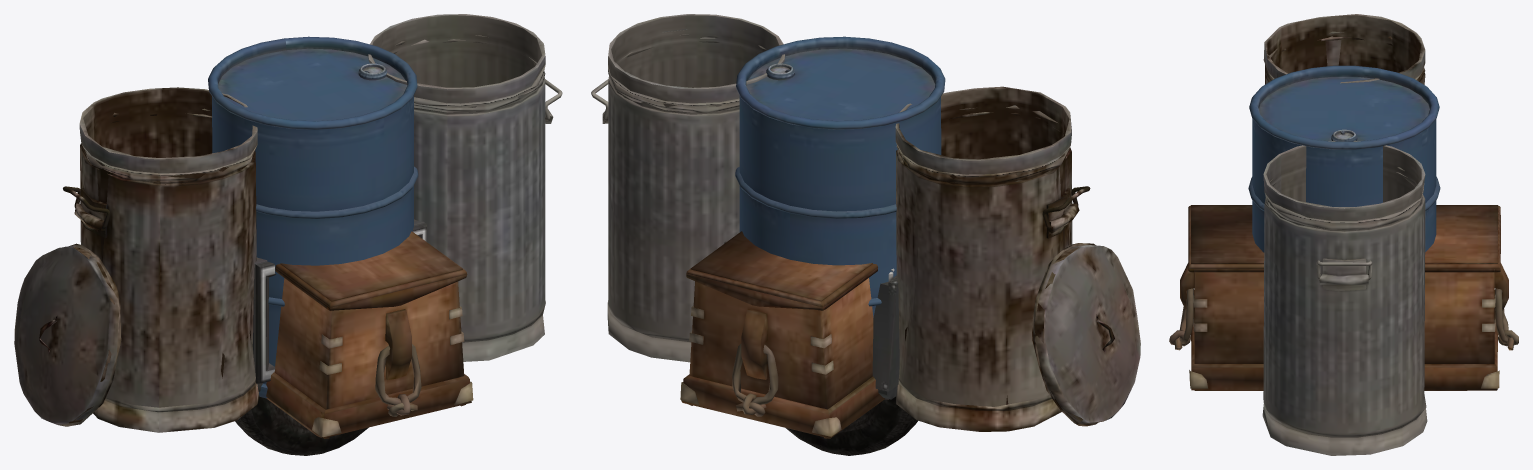
Rendered from yard-small.glb.
3 renders of one model, left to right at view 1: azimuth 30°, elevation 25°; view 2: azimuth 150°, elevation 25°; view 3: azimuth 270°, elevation 25°, orthographic. The views are drawn at different scales.
Parts seen in each view (by area): view 1: metal_trash_can_rust, metal_trash_can, barrel, wooden_crate_02_crate, metal_trash_can_rust_lid, wooden_crate_02_lid, old_tyre, Television_01; view 2: metal_trash_can_rust, metal_trash_can, barrel, wooden_crate_02_crate, metal_trash_can_rust_lid, wooden_crate_02_lid, old_tyre, Television_01; view 3: metal_trash_can, barrel, wooden_crate_02_crate, wooden_crate_02_lid, metal_trash_can_rust.
Boxes of the visible parts, box(x1,y1,x2,y2) form: metal_trash_can_rust: box(74, 87, 259, 432); metal_trash_can: box(368, 14, 553, 361); barrel: box(208, 36, 418, 398); wooden_crate_02_crate: box(266, 278, 473, 438); metal_trash_can_rust_lid: box(14, 243, 121, 426); wooden_crate_02_lid: box(275, 231, 467, 310); old_tyre: box(235, 396, 368, 455); Television_01: box(252, 219, 426, 391); metal_trash_can_rust: box(895, 86, 1079, 431); metal_trash_can: box(602, 14, 784, 362); barrel: box(735, 36, 945, 317); wooden_crate_02_crate: box(680, 278, 884, 438); metal_trash_can_rust_lid: box(1032, 243, 1140, 426); wooden_crate_02_lid: box(686, 231, 877, 310); old_tyre: box(786, 396, 917, 455); Television_01: box(724, 241, 899, 399); metal_trash_can: box(1262, 140, 1427, 455); barrel: box(1248, 65, 1440, 252); wooden_crate_02_crate: box(1169, 263, 1518, 390); wooden_crate_02_lid: box(1188, 205, 1500, 272); metal_trash_can_rust: box(1263, 14, 1425, 84).
Size of the model in its own units: 1.78 by 1.23 by 1.16.
Materials: 11 (11 with a texture image).
